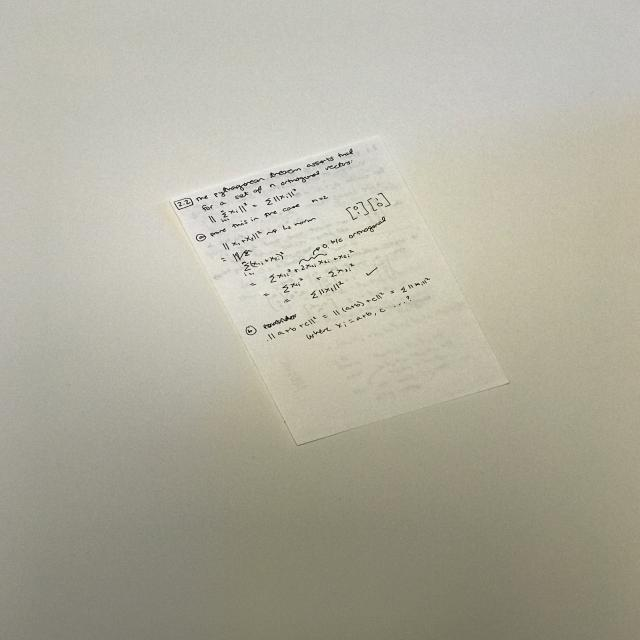paper: (165, 133, 510, 447)
